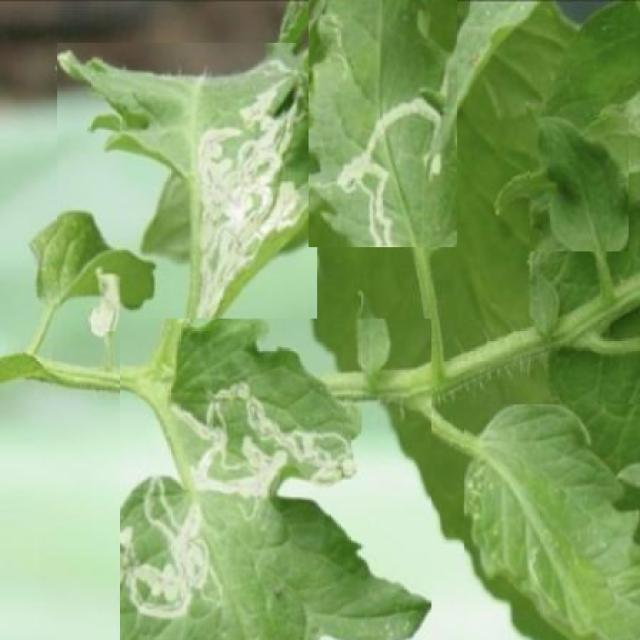Healthy: (464, 404, 640, 640), (530, 117, 629, 252)
Leaf Miner: (120, 318, 430, 640), (57, 43, 317, 331), (309, 0, 457, 247)
